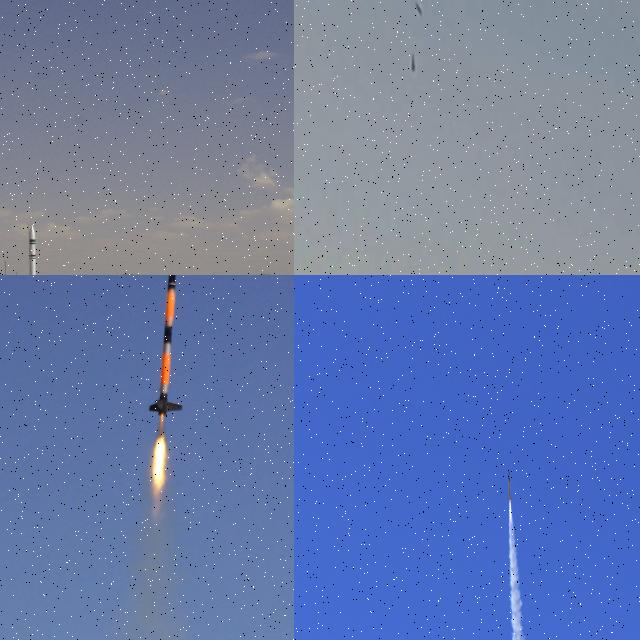Rocket: (148, 275, 183, 415), (23, 224, 40, 275), (507, 469, 512, 501), (411, 54, 415, 71)
